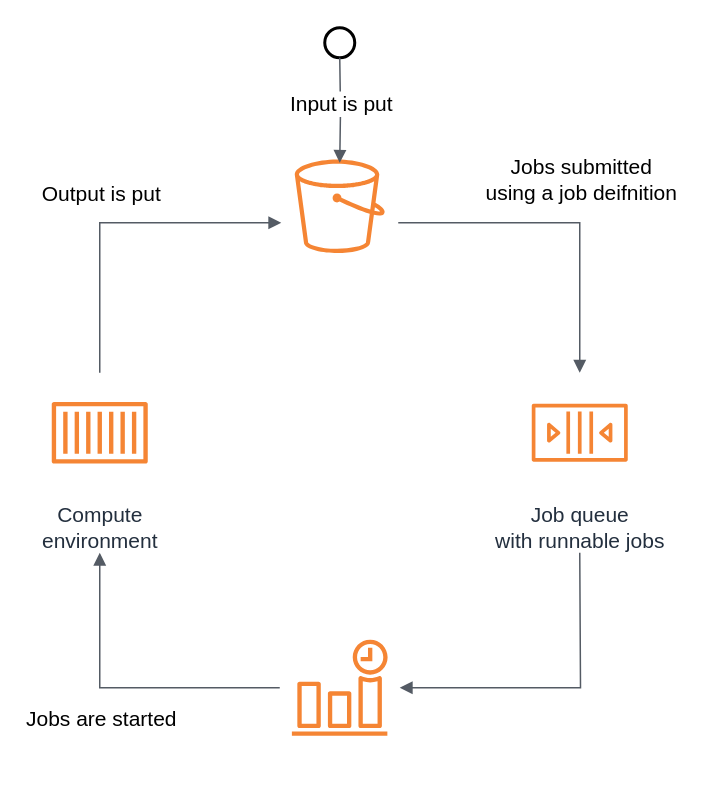
This 702x809 diagram has some shape labels left out. Each missing label, with the box of its shape:
S3 bucket: (280, 146, 398, 265)
Scheduler: (278, 626, 400, 748)
